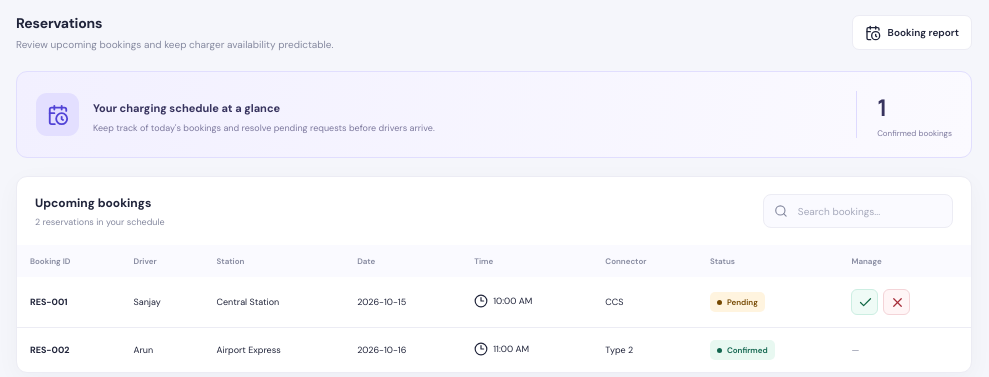
Test: Reservations › shows an empty message when no bookings match
This screenshot has width=989, height=377.
Type "not-found" into the field named "Search reservations" at point(869, 211), box [796,204,942,218]
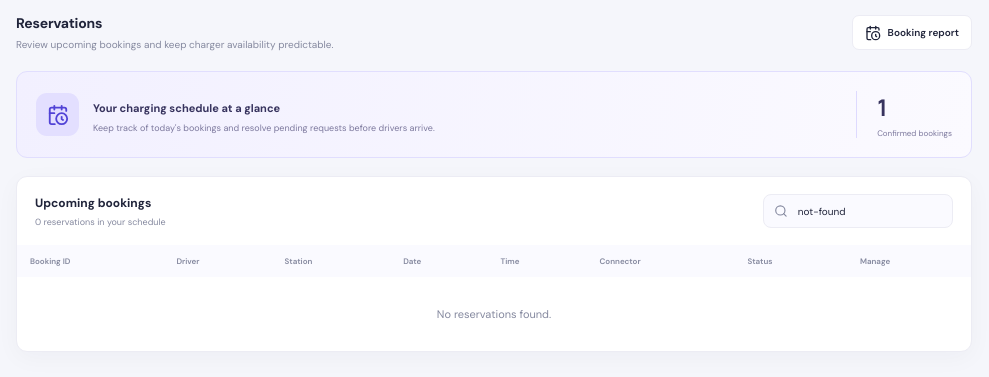
Expected: the text "No reservations found." is shown, [437,307,551,321]
